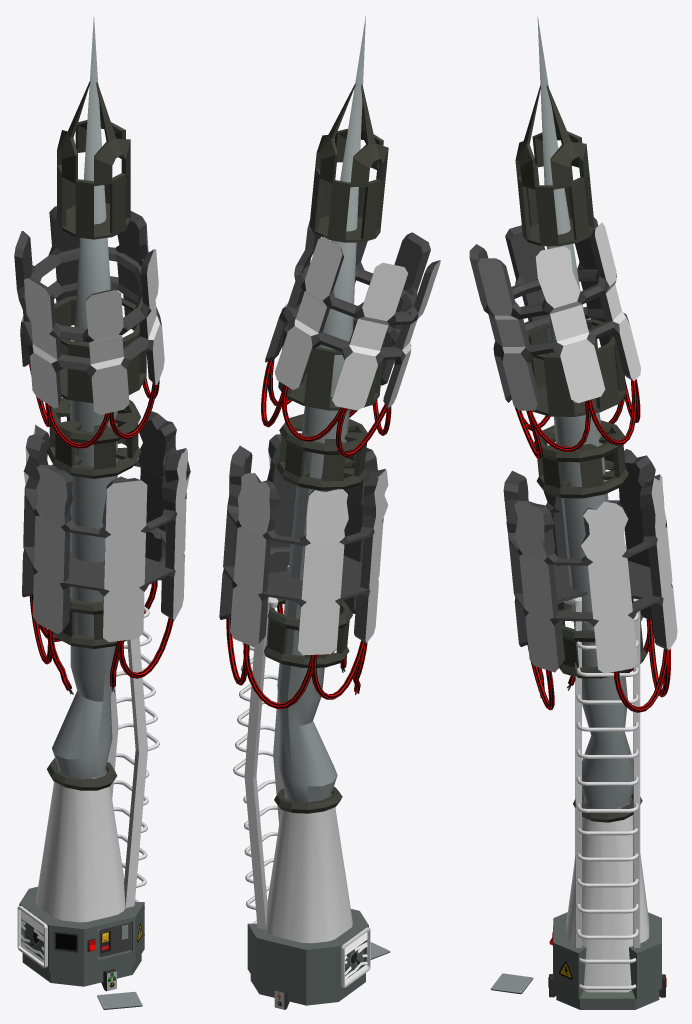
The model's file is BrokenState1.fbx.
3 renders of one model, left to right at view 1: azimuth 30°, elevation 25°; view 2: azimuth 150°, elevation 25°; view 3: azimuth 270°, elevation 25°, orthographic. The views are drawn at different scales.
Visible parts, largest first — view 1: BrokenState1MainBody, BrokenState1Ladder, BrokenState1Cabling, BrokenState1Vent, BrokenState1APC, BrokenState1Panel; view 2: BrokenState1MainBody, BrokenState1Ladder, BrokenState1Cabling, BrokenState1Vent; view 3: BrokenState1MainBody, BrokenState1Ladder, BrokenState1Cabling, BrokenState1Panel.
Part boxes in pixels (x1=…): BrokenState1MainBody: x1=14, y1=16, x2=190, y2=986; BrokenState1Ladder: x1=107, y1=587, x2=159, y2=935; BrokenState1Cabling: x1=29, y1=325, x2=173, y2=694; BrokenState1Vent: x1=17, y1=905, x2=47, y2=968; BrokenState1APC: x1=98, y1=922, x2=131, y2=957; BrokenState1Panel: x1=97, y1=991, x2=142, y2=1009; BrokenState1MainBody: x1=219, y1=15, x2=440, y2=1005; BrokenState1Ladder: x1=233, y1=565, x2=288, y2=929; BrokenState1Cabling: x1=226, y1=360, x2=391, y2=709; BrokenState1Vent: x1=341, y1=927, x2=370, y2=987; BrokenState1MainBody: x1=469, y1=16, x2=677, y2=1009; BrokenState1Ladder: x1=563, y1=596, x2=640, y2=989; BrokenState1Cabling: x1=514, y1=379, x2=670, y2=712; BrokenState1Panel: x1=490, y1=973, x2=533, y2=994.
Bounding box in the file's own units: 175 × 919 × 179.
